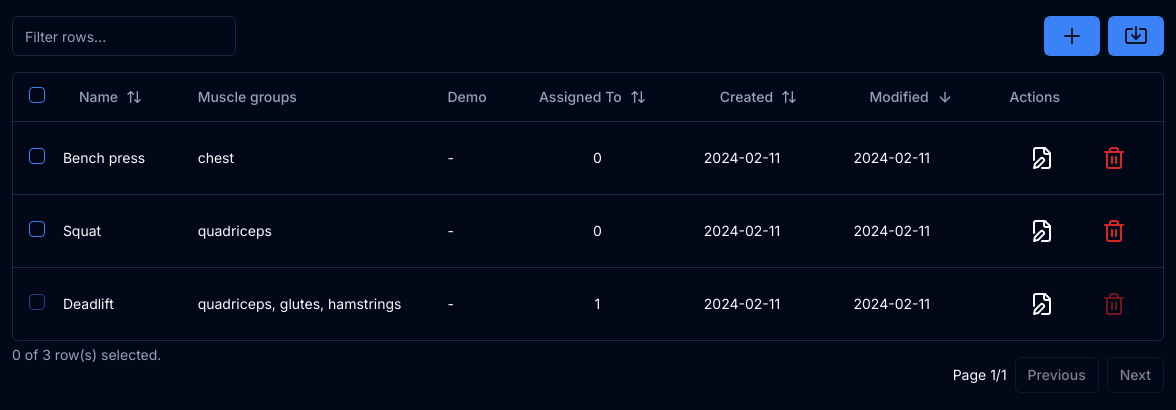
Test: Exercise Table › renders all columns and key elements
Expected: the column heading "Name" is shown, [47,73,182,121]
Expected: the column heading "Muscle groups" is shown, [182,73,432,121]
Note: optional bulk delete button
Click the checkbox named "select all": (37, 95) [29,87,45,103]
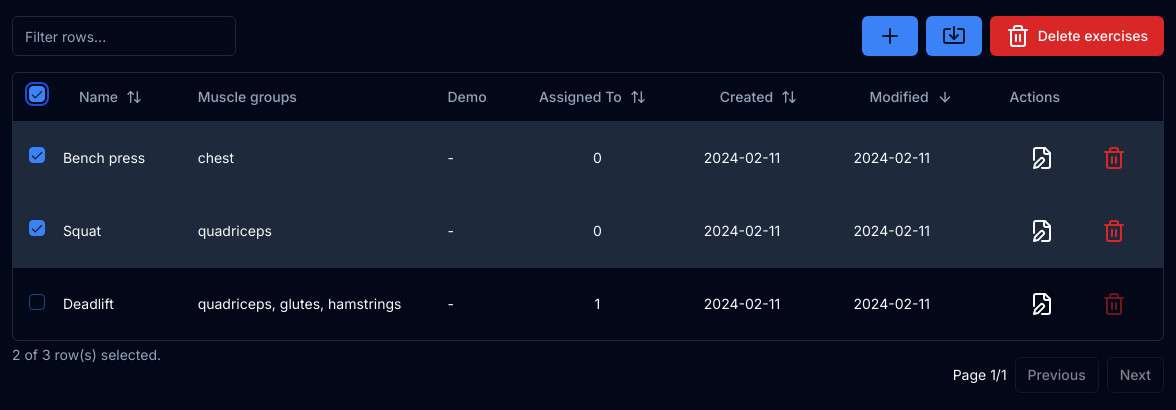
Expected: the field is shown, [12,16,236,56]
Now the button "Delete exercises" is shown, box [990,16,1164,56]
